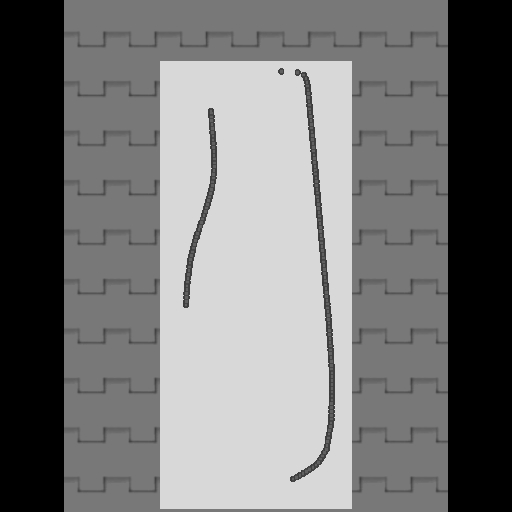Defect: (178, 307, 291, 490)
